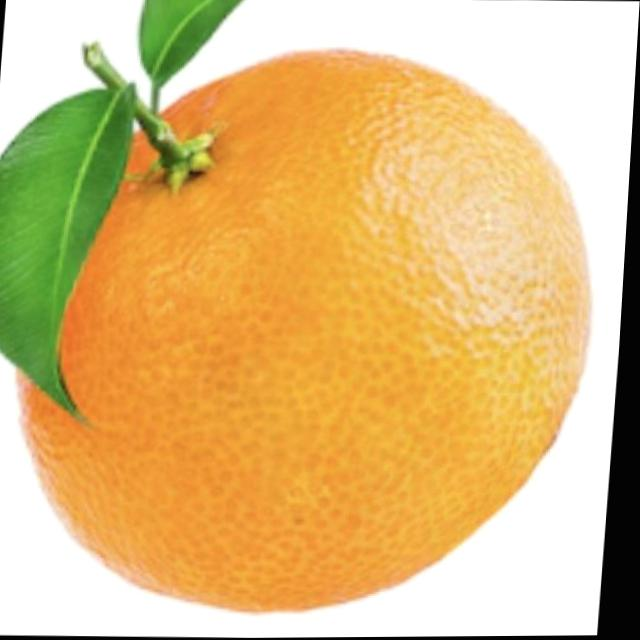Orange: (3, 38, 613, 621)
